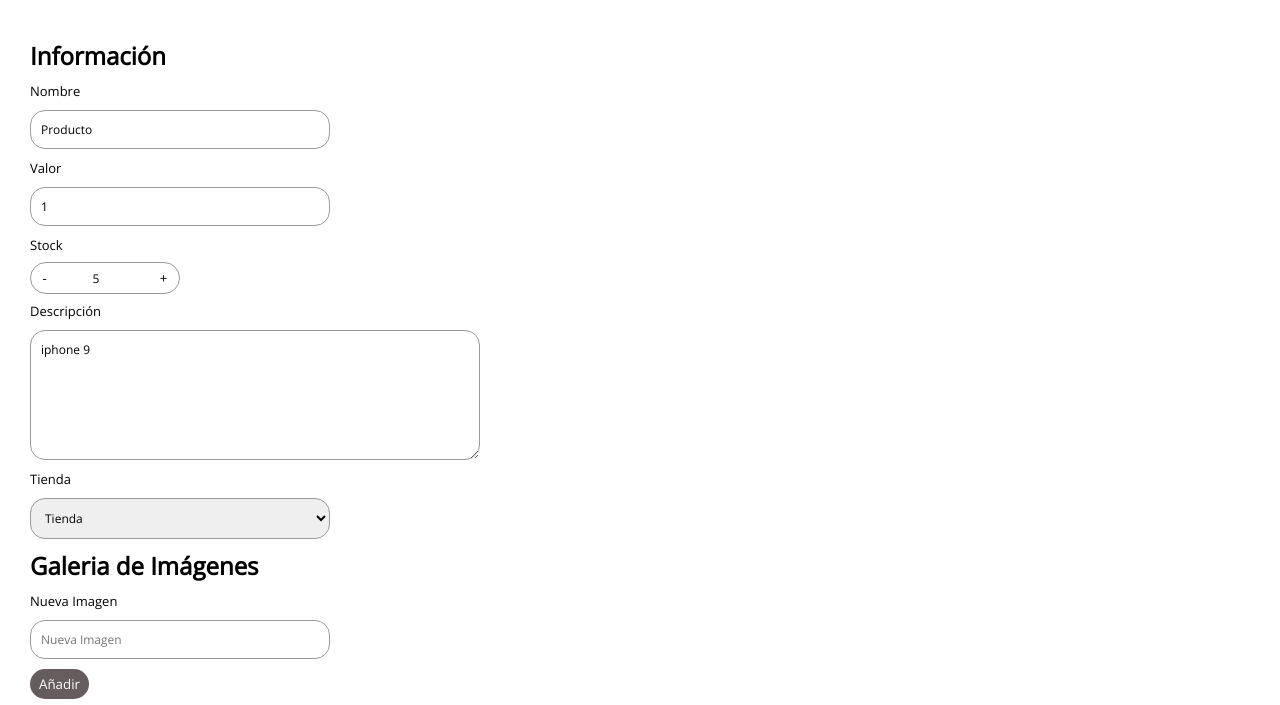
Test: El boton de cancelar cambios funciona correctamente › Escribo el input del nombre, y al cancelar se borra lo que escribi
This screenshot has width=1280, height=705.
In the field labelled "Nombre": (180, 130) [30,110,330,149], type "Jorge"
(page scrolled)
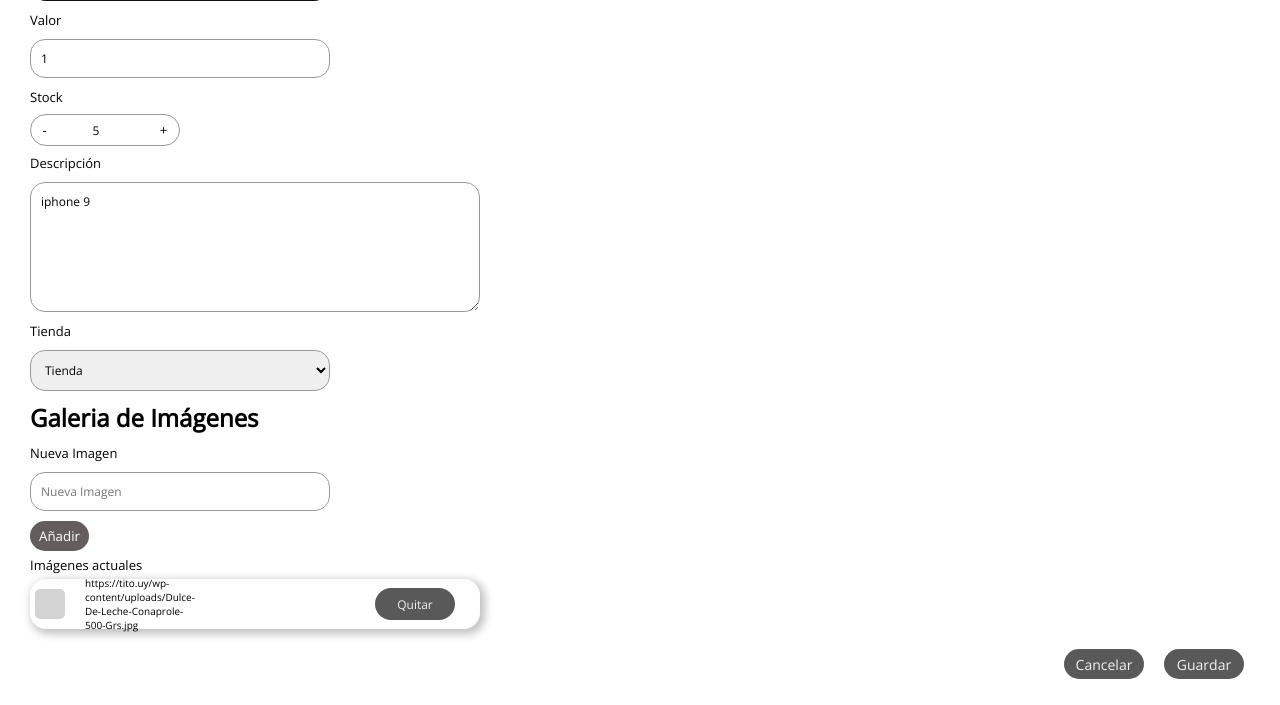
Click the button "Cancelar": click(1104, 664) [1064,649,1144,679]
(page scrolled)
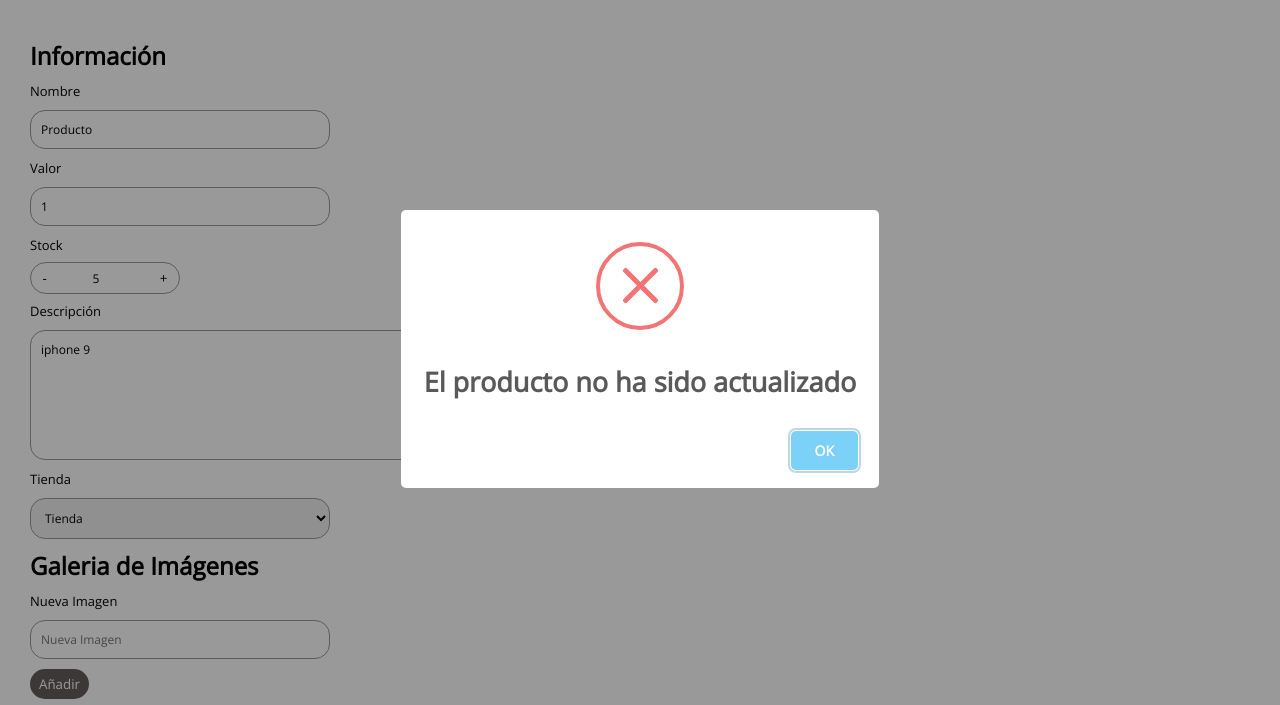
Expected: the field labelled "Nombre" holds "Producto", [30,110,330,149]
